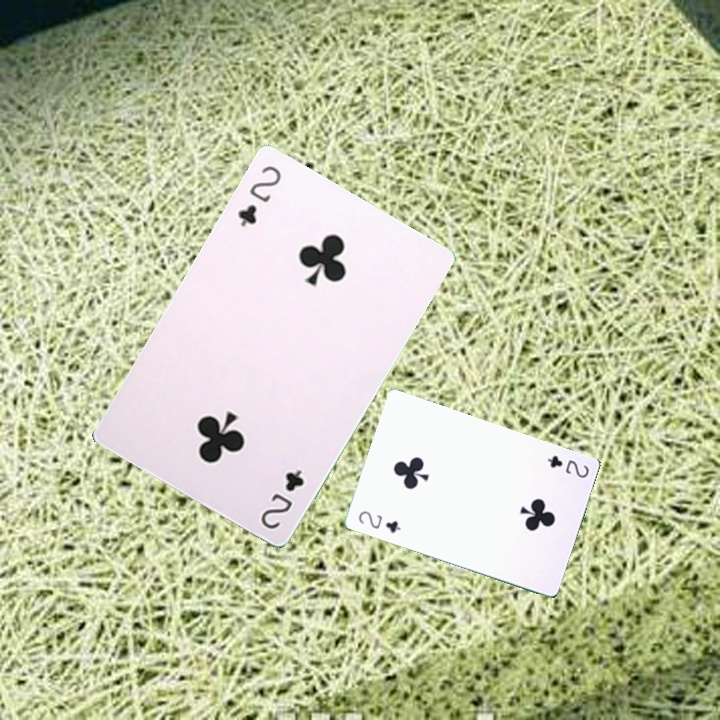2c: (233, 161, 284, 229), (256, 465, 307, 532), (543, 451, 592, 481), (354, 507, 403, 536)
